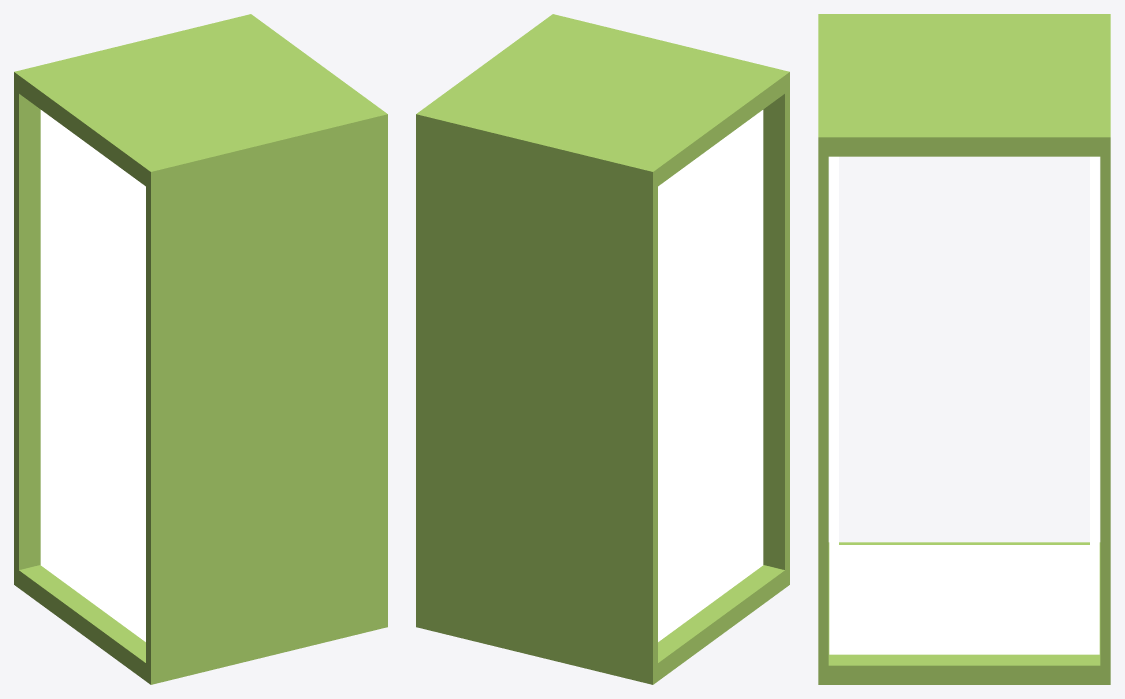
3 renders of one model, left to right at view 1: azimuth 30°, elevation 25°; view 2: azimuth 150°, elevation 25°; view 3: azimuth 270°, elevation 25°, orthographic. The views are drawn at different scales.
Parts seen in each view (by area): view 1: Cube, Cube.001; view 2: Cube, Cube.001; view 3: Cube, Cube.001.
Boxes of the visible parts, bbox=[...] form: Cube: bbox=[14, 14, 387, 684]; Cube.001: bbox=[40, 110, 145, 641]; Cube: bbox=[416, 14, 789, 684]; Cube.001: bbox=[658, 110, 763, 641]; Cube: bbox=[818, 14, 1110, 684]; Cube.001: bbox=[829, 156, 1099, 654].
Bounding box in the file's own units: 2.41 × 4.98 × 2.41.
